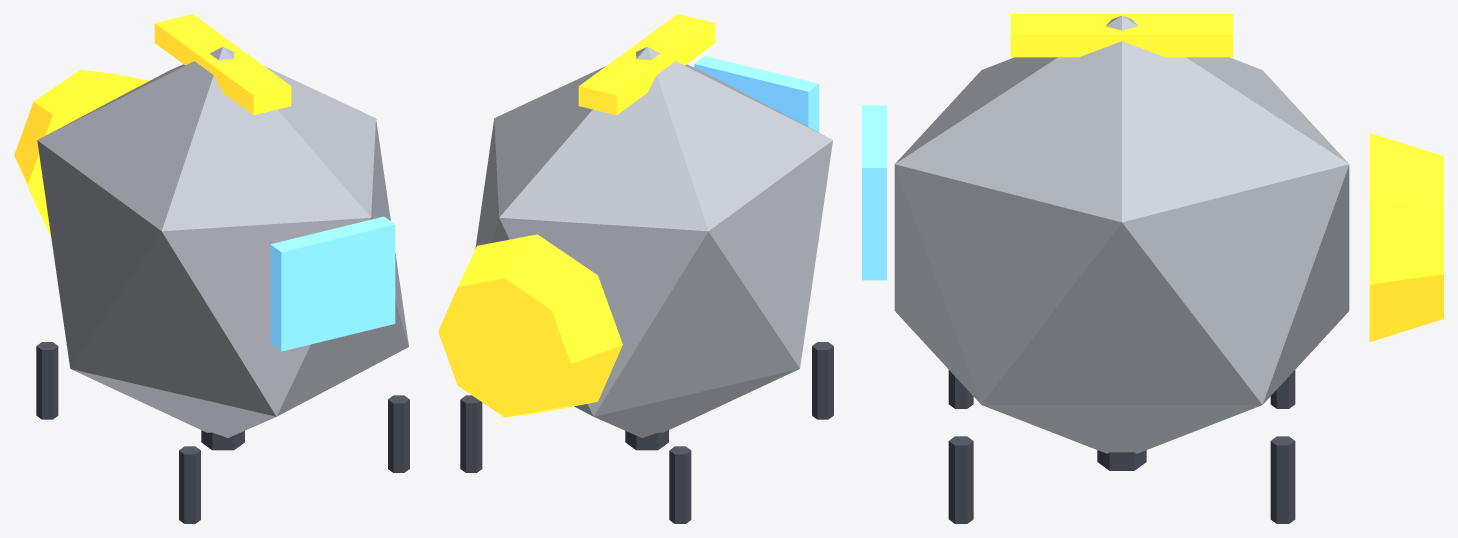
File: escape_pod.fbx
The picture shows the model from 3 angles, left to right: view 1: azimuth 30°, elevation 25°; view 2: azimuth 150°, elevation 25°; view 3: azimuth 270°, elevation 25°; orthographic projection. The views are drawn at different scales.
Parts seen in each view (by area): view 1: escape_pod; view 2: escape_pod; view 3: escape_pod.
Part boxes in pixels (x1,y1,x2,y2): escape_pod: (14, 14, 409, 523); escape_pod: (438, 14, 833, 523); escape_pod: (862, 14, 1443, 523).
Bounding box in the file's own units: 1.61 × 1.99 × 2.35.
